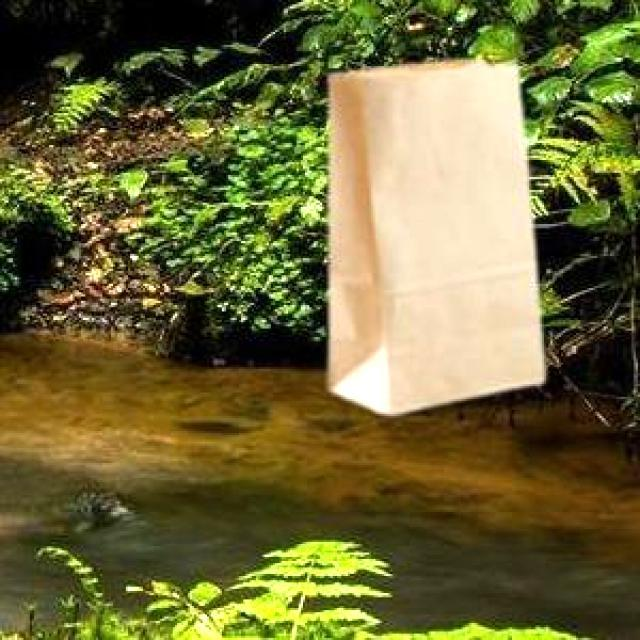Paper_Bag: (325, 57, 541, 410)
